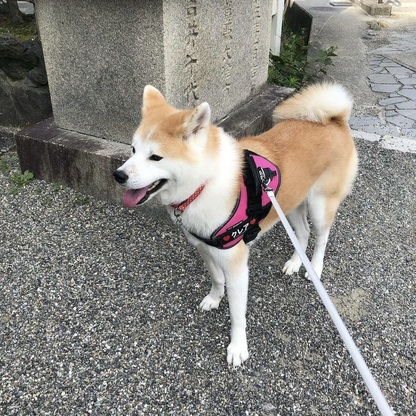akita: (108, 73, 364, 370)
